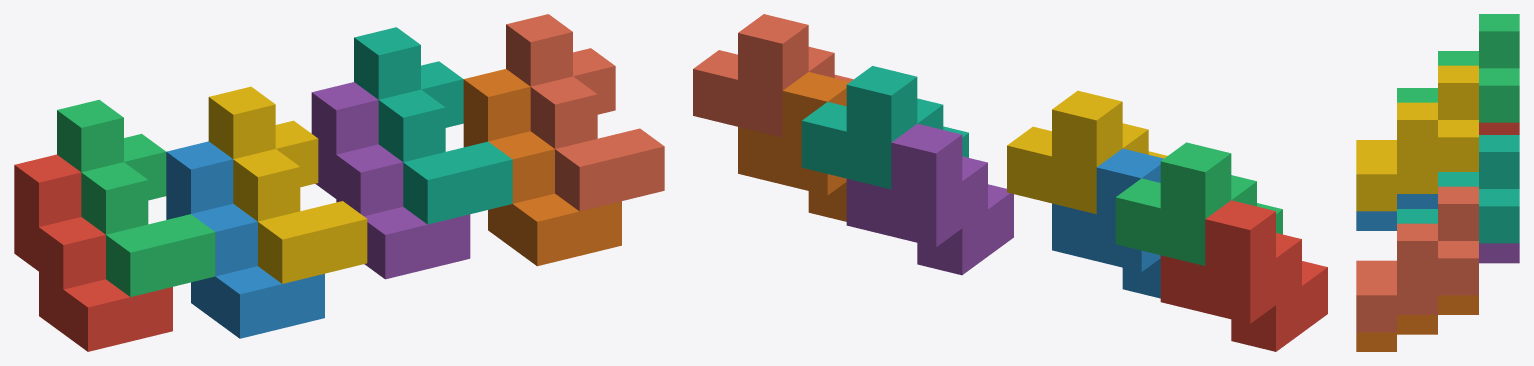
Rendered from tiling.obj.
The picture shows the model from 3 angles, left to right: view 1: azimuth 30°, elevation 25°; view 2: azimuth 150°, elevation 25°; view 3: azimuth 270°, elevation 25°; orthographic projection. The views are drawn at different scales.
Visible parts, largest first — view 1: copy_1_domain_4, copy_1_domain_7, copy_1_domain_8, copy_1_domain_3, copy_1_domain_1, copy_1_domain_5, copy_1_domain_2, copy_1_domain_6; view 2: copy_1_domain_5, copy_1_domain_1, copy_1_domain_7, copy_1_domain_3, copy_1_domain_8, copy_1_domain_4, copy_1_domain_2, copy_1_domain_6; view 3: copy_1_domain_8, copy_1_domain_4, copy_1_domain_3, copy_1_domain_7, copy_1_domain_6, copy_1_domain_2, copy_1_domain_5, copy_1_domain_1.
Boxes of the visible parts, box(x1,y1,x2,y2) form: copy_1_domain_4: box(208, 86, 367, 283); copy_1_domain_7: box(354, 27, 512, 224); copy_1_domain_8: box(506, 14, 664, 211); copy_1_domain_3: box(57, 99, 215, 296); copy_1_domain_1: box(14, 154, 172, 351); copy_1_domain_5: box(311, 82, 470, 279); copy_1_domain_2: box(166, 141, 324, 338); copy_1_domain_6: box(463, 69, 621, 266); copy_1_domain_5: box(846, 123, 1013, 275); copy_1_domain_1: box(1160, 200, 1327, 351); copy_1_domain_7: box(801, 66, 968, 189); copy_1_domain_3: box(1115, 142, 1282, 265); copy_1_domain_8: box(693, 14, 853, 137); copy_1_domain_4: box(1007, 90, 1167, 214); copy_1_domain_2: box(1052, 148, 1163, 298); copy_1_domain_6: box(738, 72, 849, 221); copy_1_domain_8: box(1356, 186, 1478, 332); copy_1_domain_4: box(1356, 65, 1478, 211); copy_1_domain_3: box(1397, 14, 1519, 122); copy_1_domain_7: box(1397, 135, 1519, 243); copy_1_domain_6: box(1356, 295, 1478, 351); copy_1_domain_2: box(1356, 194, 1437, 230); copy_1_domain_5: box(1479, 243, 1519, 263); copy_1_domain_1: box(1479, 122, 1519, 134).
Bounding box in the file's own units: 13 × 4 × 4.
